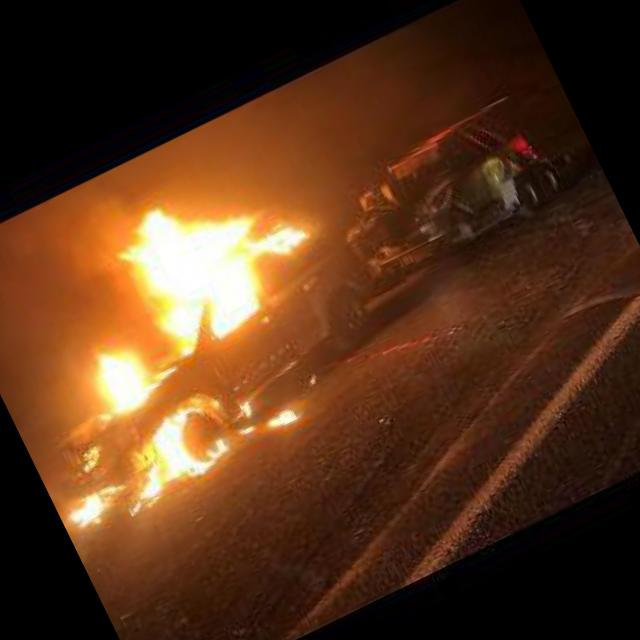fire: (116, 140, 350, 357), (101, 394, 246, 514), (77, 331, 180, 422), (63, 484, 112, 532), (263, 404, 299, 432), (232, 392, 256, 418)
